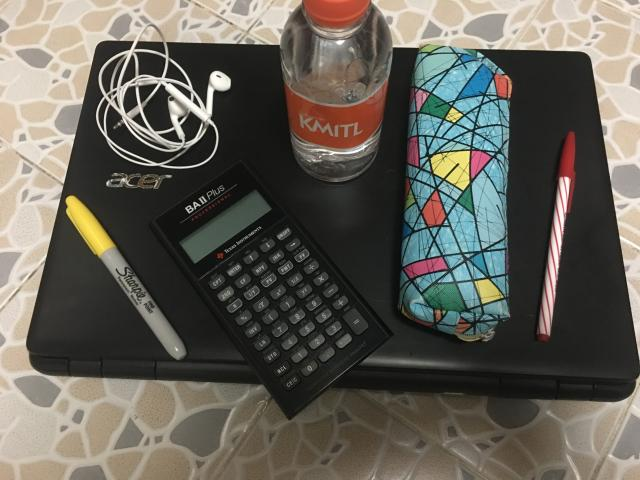Pen: (65, 195, 186, 360), (536, 131, 575, 342)
bottle: (280, 0, 392, 181)
wire: (95, 24, 231, 169)
